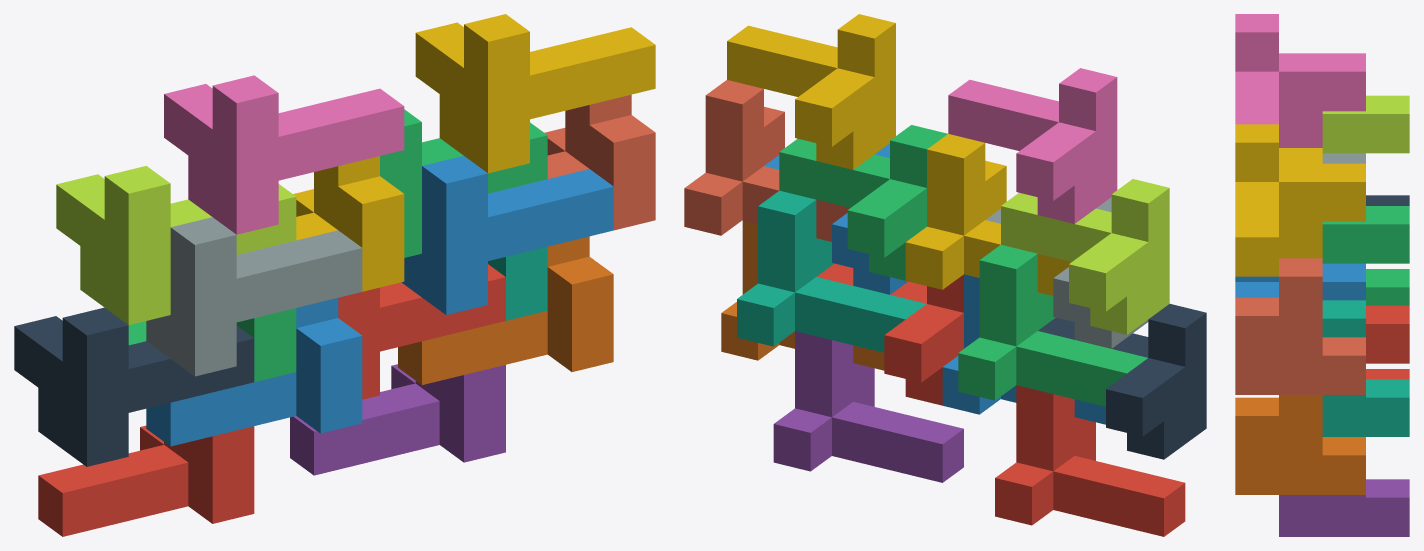
Rendered from tiling.obj.
The picture shows the model from 3 angles, left to right: view 1: azimuth 30°, elevation 25°; view 2: azimuth 150°, elevation 25°; view 3: azimuth 270°, elevation 25°; orthographic projection. The views are drawn at different scales.
Parts seen in each view (by area): view 1: copy_2_domain_4, copy_2_domain_8, copy_2_domain_1, copy_2_domain_2, copy_2_domain_6, copy_2_domain_3, copy_1_domain_1, copy_1_domain_5, copy_1_domain_2, copy_1_domain_6, copy_1_domain_8, copy_1_domain_4 (+4 smaller); view 2: copy_2_domain_4, copy_2_domain_8, copy_1_domain_1, copy_1_domain_5, copy_2_domain_3, copy_1_domain_3, copy_1_domain_7, copy_2_domain_7, copy_2_domain_1, copy_1_domain_4, copy_1_domain_8, copy_2_domain_5 (+4 smaller); view 3: copy_2_domain_8, copy_1_domain_8, copy_2_domain_4, copy_1_domain_6, copy_1_domain_5, copy_1_domain_7, copy_2_domain_3, copy_2_domain_7, copy_2_domain_6, copy_2_domain_5, copy_1_domain_3, copy_1_domain_4 (+3 smaller).
Part boxes in pixels (box(x1,y1,x2,y2)): copy_2_domain_4: box(164, 75, 404, 234); copy_2_domain_8: box(415, 14, 655, 173); copy_2_domain_1: box(14, 307, 254, 466); copy_2_domain_2: box(146, 217, 362, 376); copy_2_domain_6: box(402, 156, 613, 315); copy_2_domain_3: box(56, 166, 296, 324); copy_1_domain_1: box(38, 425, 254, 536); copy_1_domain_5: box(290, 364, 505, 475); copy_1_domain_2: box(146, 298, 362, 446); copy_1_domain_6: box(398, 236, 613, 384); copy_1_domain_8: box(544, 94, 655, 230); copy_1_domain_4: box(293, 156, 404, 291); copy_2_domain_4: box(948, 68, 1117, 223); copy_2_domain_8: box(727, 14, 895, 169); copy_1_domain_1: box(995, 385, 1185, 536); copy_1_domain_5: box(773, 331, 963, 482); copy_2_domain_3: box(1001, 179, 1169, 334); copy_1_domain_3: box(958, 245, 1147, 406); copy_1_domain_7: box(737, 190, 926, 352); copy_2_domain_7: box(779, 125, 947, 280); copy_2_domain_1: box(1038, 304, 1206, 459); copy_1_domain_4: box(905, 134, 1071, 295); copy_1_domain_8: box(684, 80, 849, 241); copy_2_domain_5: box(816, 263, 963, 405); copy_2_domain_8: box(1235, 124, 1365, 276); copy_1_domain_8: box(1235, 258, 1365, 394); copy_2_domain_4: box(1235, 14, 1365, 147); copy_1_domain_6: box(1235, 395, 1365, 494); copy_1_domain_5: box(1279, 479, 1409, 536); copy_1_domain_7: box(1322, 300, 1409, 436); copy_2_domain_3: box(1322, 95, 1409, 153); copy_2_domain_7: box(1322, 206, 1409, 263); copy_2_domain_6: box(1235, 263, 1365, 300); copy_2_domain_5: box(1366, 305, 1409, 363); copy_1_domain_3: box(1366, 269, 1409, 305); copy_1_domain_4: box(1279, 148, 1322, 163).
Bounding box in the file's own units: 13 × 10 × 4.
